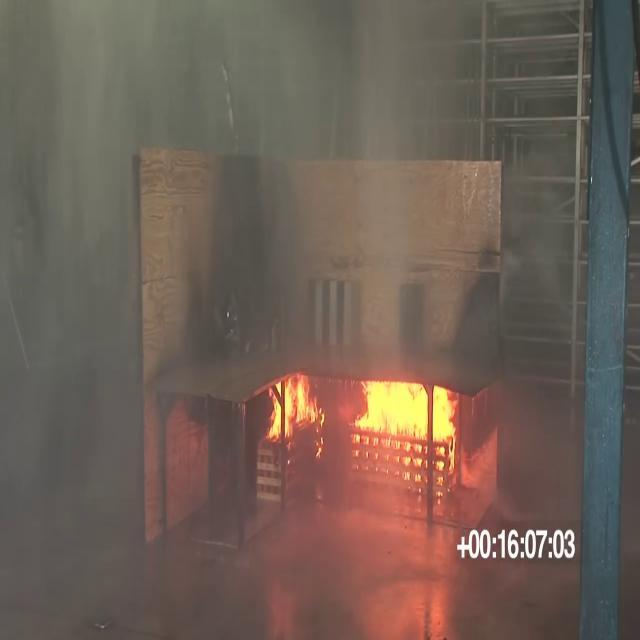Fire: (274, 358, 468, 544)
Smoke: (19, 21, 626, 343)
